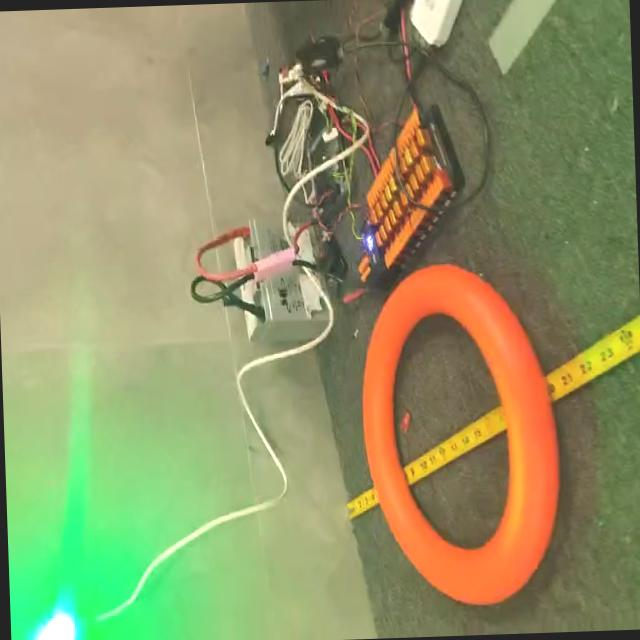note: (356, 258, 564, 614)
